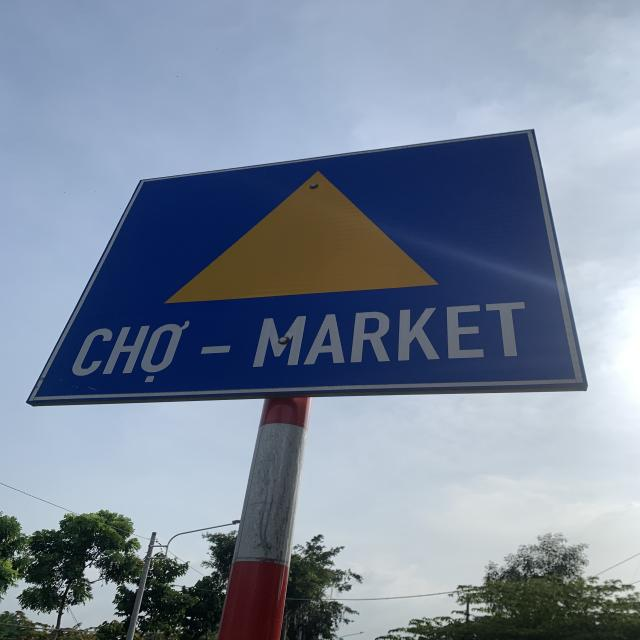Cho_Quay_Xe: (33, 131, 582, 392)
